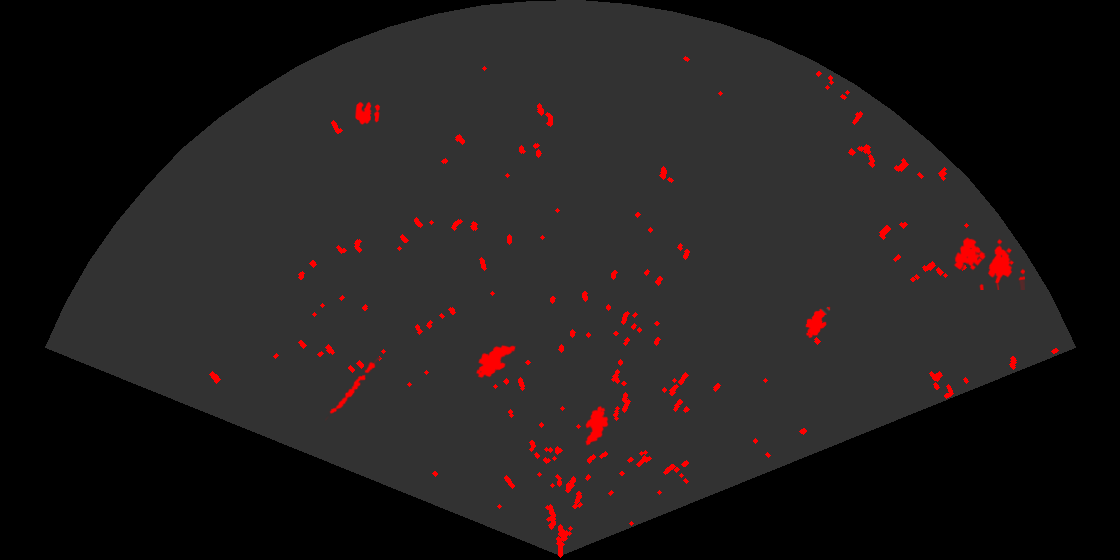AUV: (474, 344, 517, 380), (584, 404, 610, 447), (804, 305, 832, 340)
ball: (354, 100, 382, 126)
cage: (952, 236, 1025, 290)
chain: (325, 357, 381, 422)
